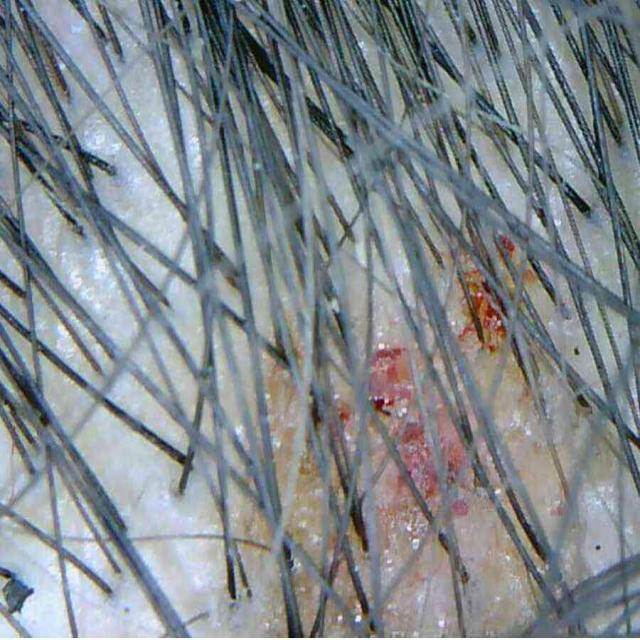o: (56, 238, 121, 317)
s: (374, 462, 429, 549), (462, 267, 509, 361), (398, 412, 440, 516), (368, 346, 417, 417), (446, 425, 467, 491), (499, 231, 516, 259), (457, 324, 477, 345), (449, 497, 468, 517), (338, 401, 352, 427), (550, 505, 568, 517)
